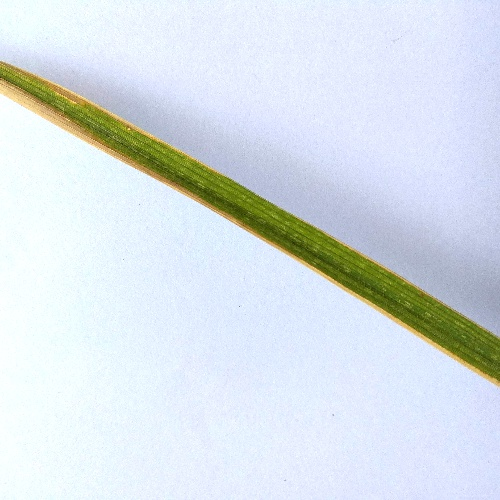Busuk Leher: (68, 126, 117, 161), (44, 62, 93, 97), (32, 104, 67, 136), (2, 81, 34, 110)
